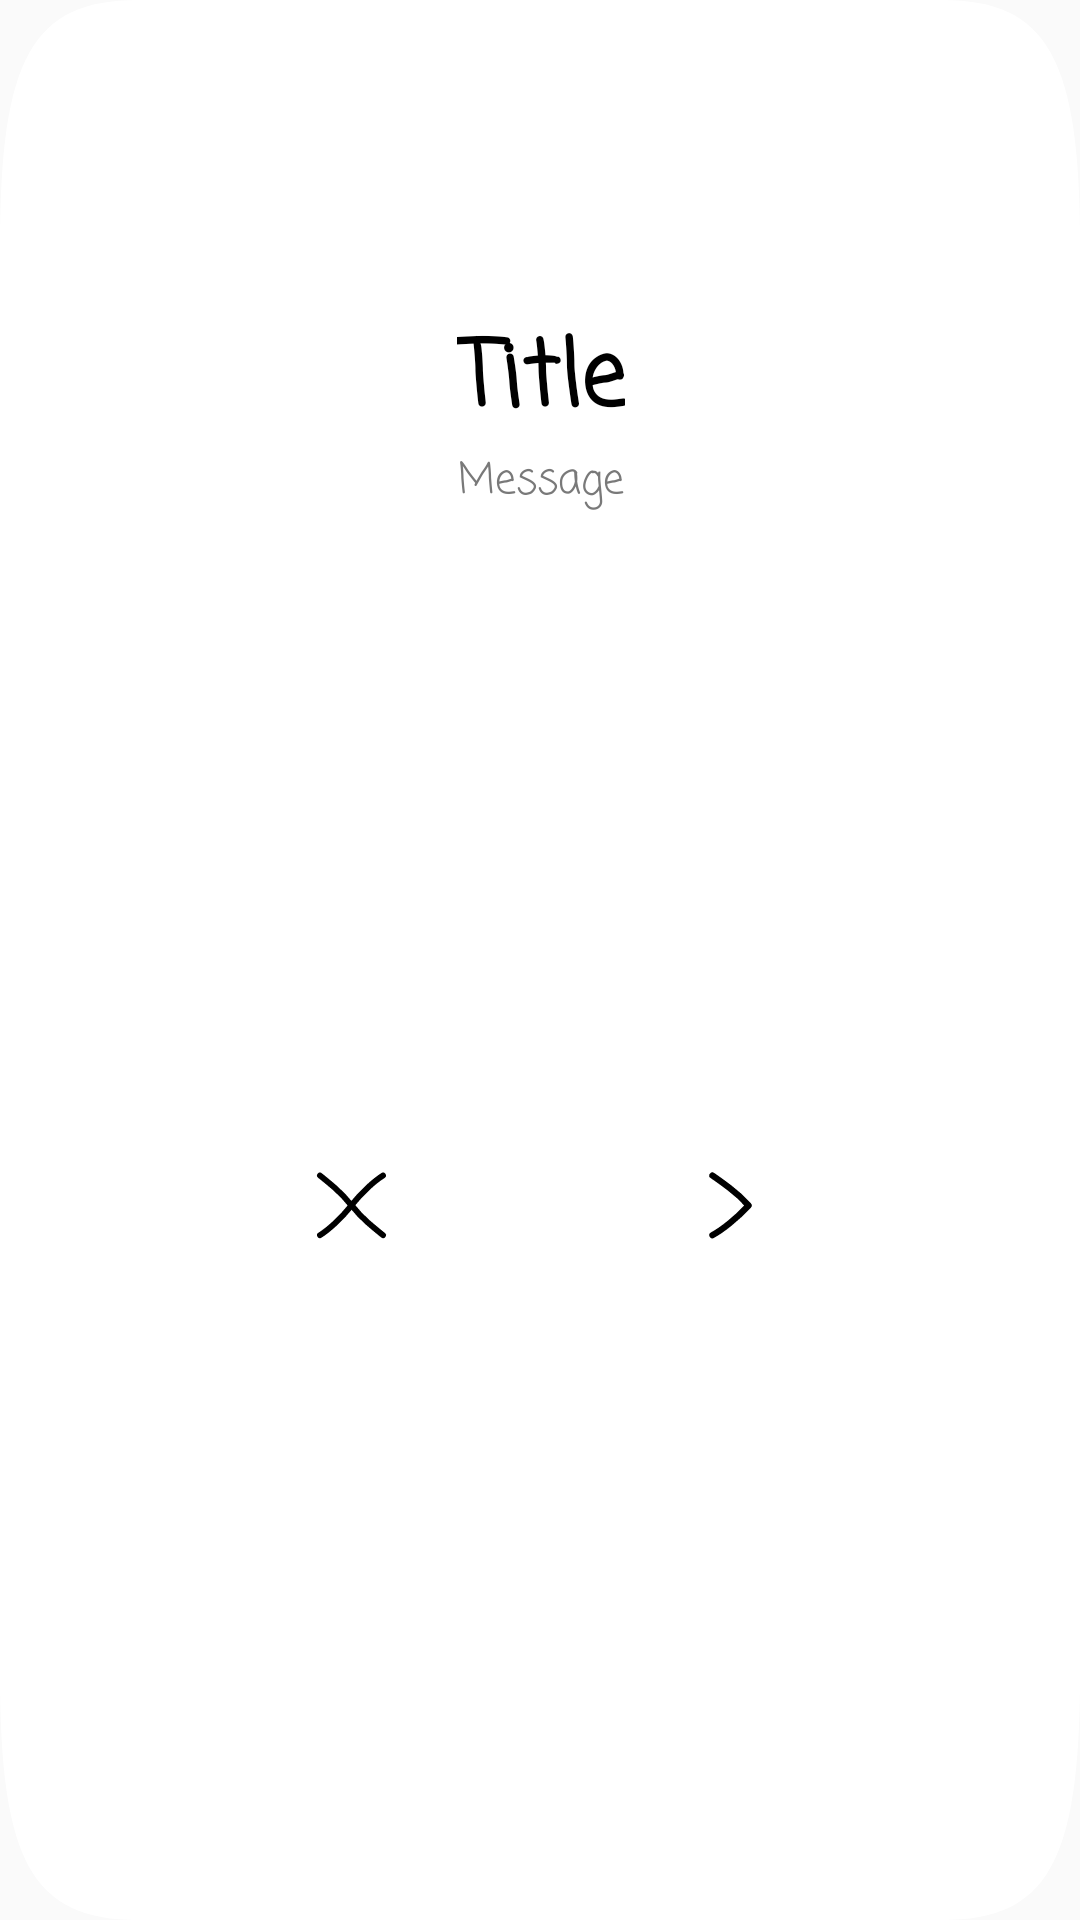

Icon click points for this 1080px x 1920px phone screenshot, format (x=x, y=y):
close: (x=351, y=1205)
